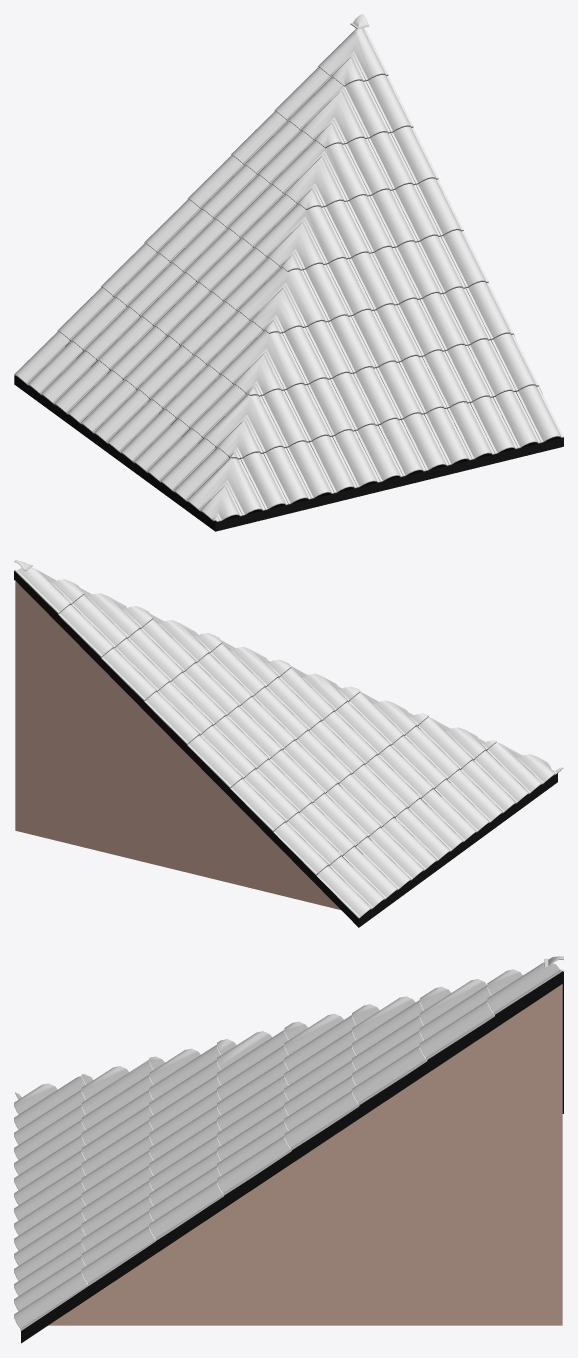
Rendered from Building_Roof_Corner.fbx.
The picture shows the model from 3 angles, top to bottom: view 1: azimuth 30°, elevation 25°; view 2: azimuth 150°, elevation 25°; view 3: azimuth 270°, elevation 25°; orthographic projection. The views are drawn at different scales.
Visible parts, largest first — view 1: Building_Roof_Corner; view 2: Building_Roof_Corner; view 3: Building_Roof_Corner.
Boxes of the visible parts, <box> form: Building_Roof_Corner: <box>14,14,563,531</box>; Building_Roof_Corner: <box>14,560,563,927</box>; Building_Roof_Corner: <box>14,956,563,1343</box>.
Size of the model in its own units: 4.02 by 3.11 by 4.02.
